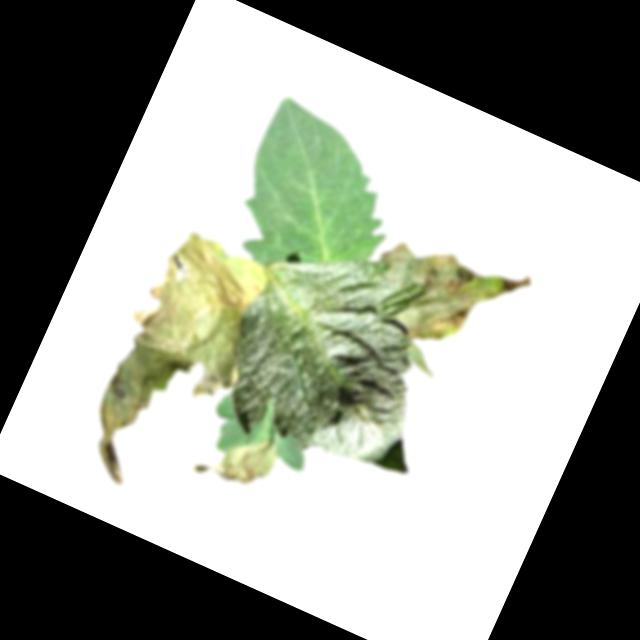Late_blight: (63, 221, 279, 511), (353, 218, 532, 376), (187, 411, 285, 501)
healthy: (200, 218, 483, 499), (214, 94, 421, 305)
